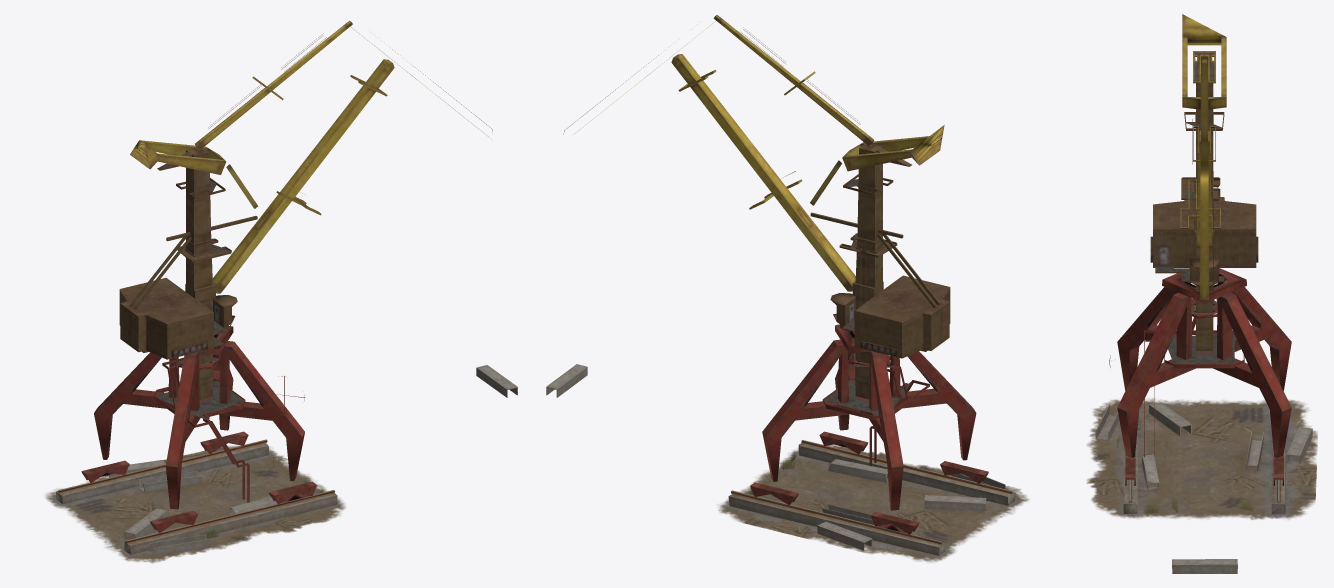
Rendered from port-crane.lod1.glb.
3 views of the same model, side by side, from view 1: azimuth 30°, elevation 25°; view 2: azimuth 150°, elevation 25°; view 3: azimuth 270°, elevation 25° (orthographic). The views are drawn at different scales.
Visible parts, largest first — view 1: Crane_anim_7_Body_0, Decor_anim_1_Decor_0, Details_anim_23_Details_0; view 2: Crane_anim_7_Body_0, Decor_anim_1_Decor_0, Details_anim_23_Details_0; view 3: Crane_anim_7_Body_0, Decor_anim_1_Decor_0, Details_anim_23_Details_0.
Boxes of the visible parts, left/top/right/bottom form: Crane_anim_7_Body_0: left=81, top=20, right=489, bottom=533; Decor_anim_1_Decor_0: left=45, top=365, right=517, bottom=563; Details_anim_23_Details_0: left=153, top=33, right=492, bottom=502; Crane_anim_7_Body_0: left=575, top=15, right=988, bottom=534; Decor_anim_1_Decor_0: left=546, top=364, right=1029, bottom=562; Details_anim_23_Details_0: left=563, top=27, right=929, bottom=466; Crane_anim_7_Body_0: left=1117, top=14, right=1291, bottom=485; Decor_anim_1_Decor_0: left=1086, top=398, right=1317, bottom=573; Details_anim_23_Details_0: left=1109, top=51, right=1244, bottom=457.
Bounding box in the file's own units: 42.21 × 41.62 × 18.08.
Materials: 3 (3 with a texture image).
